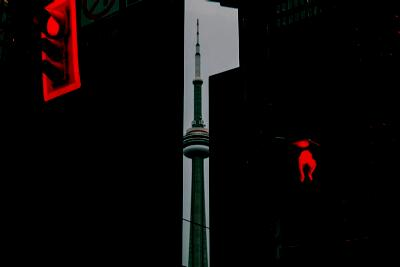International Road Signal Light: (39, 0, 81, 101)
